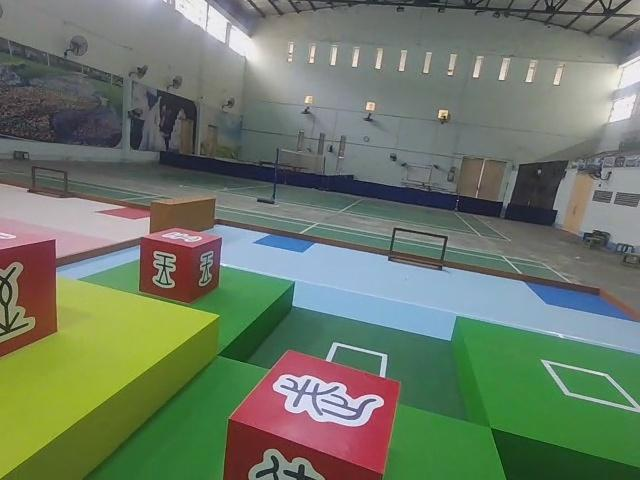R2 Fake: (223, 347, 404, 480)
R2 Real: (136, 226, 225, 306), (0, 236, 56, 358)
